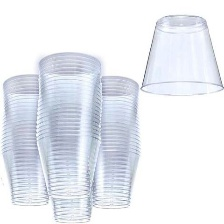glass: (32, 46, 108, 201), (44, 74, 105, 223), (89, 71, 150, 211), (0, 68, 58, 210), (136, 12, 224, 101)
